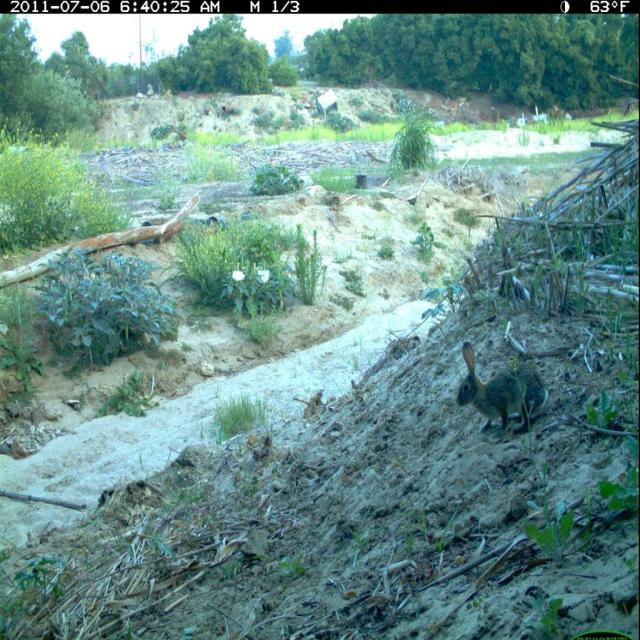rabbit: (454, 337, 551, 440)
